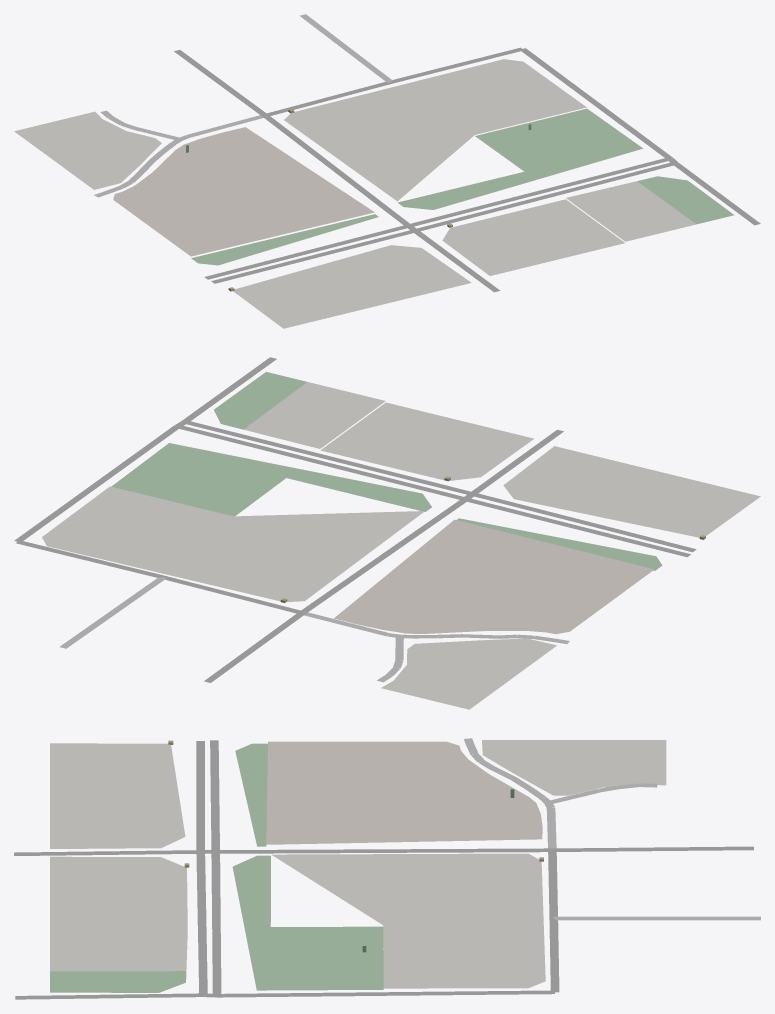
3 views of the same model, one above another, from view 1: azimuth 30°, elevation 25°; view 2: azimuth 150°, elevation 25°; view 3: azimuth 270°, elevation 25° (orthographic). The views are drawn at different scales.
Size of the model in its own units: 506 by 11.81 by 606.
